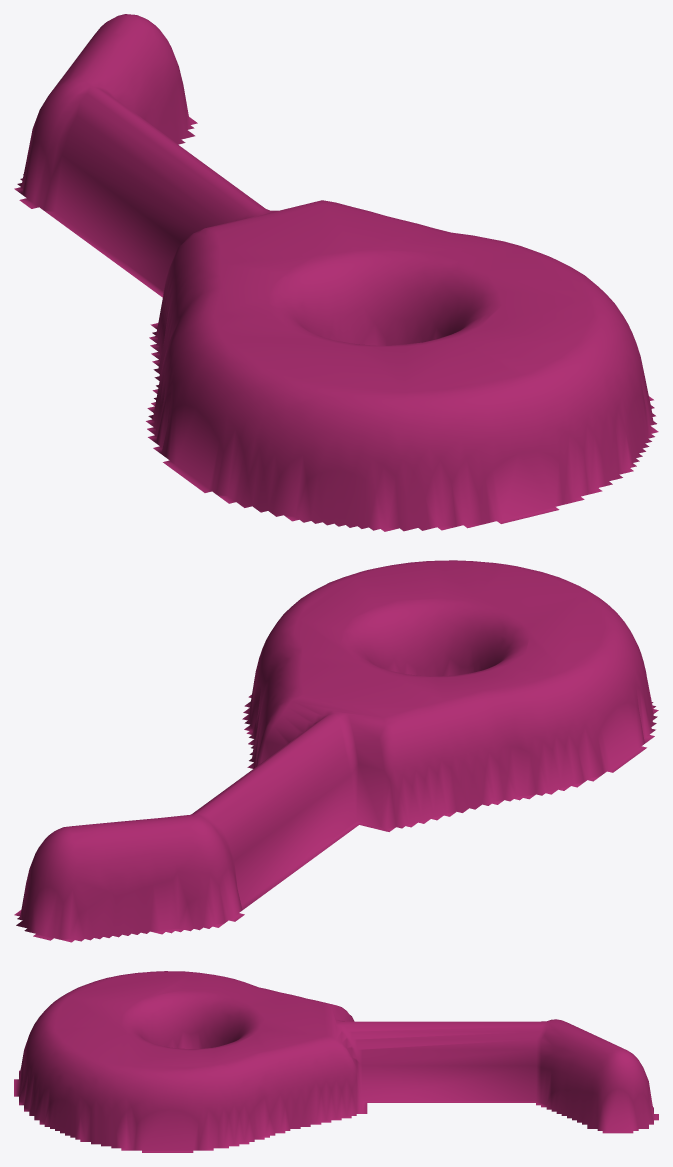
File: decoration-bard-draco.glb
The picture shows the model from 3 angles, top to bottom: view 1: azimuth 30°, elevation 25°; view 2: azimuth 150°, elevation 25°; view 3: azimuth 270°, elevation 25°; orthographic projection. The views are drawn at different scales.
Parts seen in each view (by area): view 1: decoration_bard; view 2: decoration_bard; view 3: decoration_bard.
Boxes of the visible parts, x1,y1,x2,y2 form: decoration_bard: [14, 14, 658, 531]; decoration_bard: [14, 560, 658, 942]; decoration_bard: [14, 971, 658, 1152].
Bounding box in the file's own units: 0.108 × 0.026 × 0.2268.
